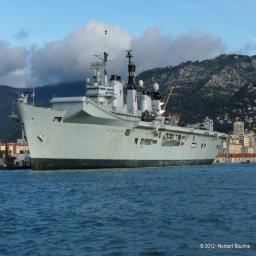Portanaves: (11, 36, 230, 174)
